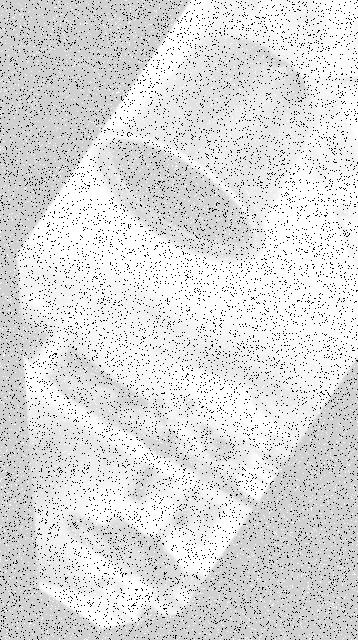pot: (90, 36, 314, 263)
